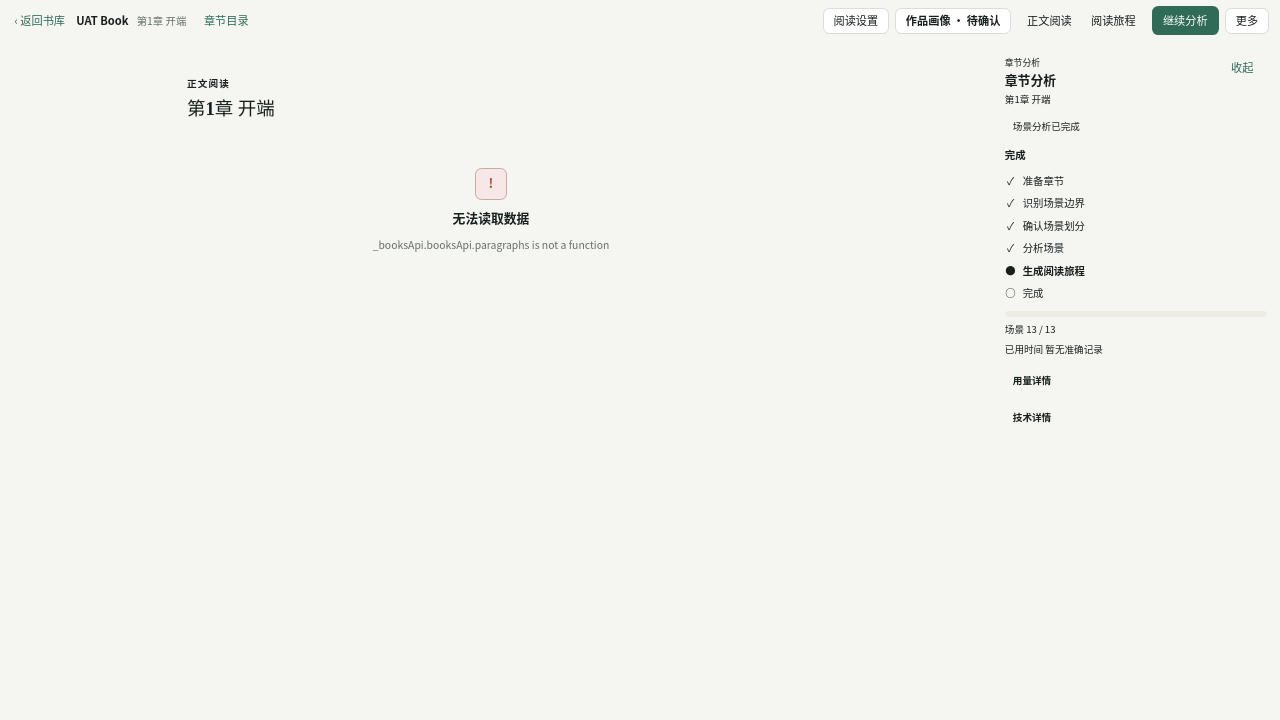
Test case: BookRoutePage reader journey resume entry › shows journey interrupted StateView for scene_profiles_partial
Click the tab with test id "workspace-tab-journey" at (1113, 21), box [1081,6,1145,35]
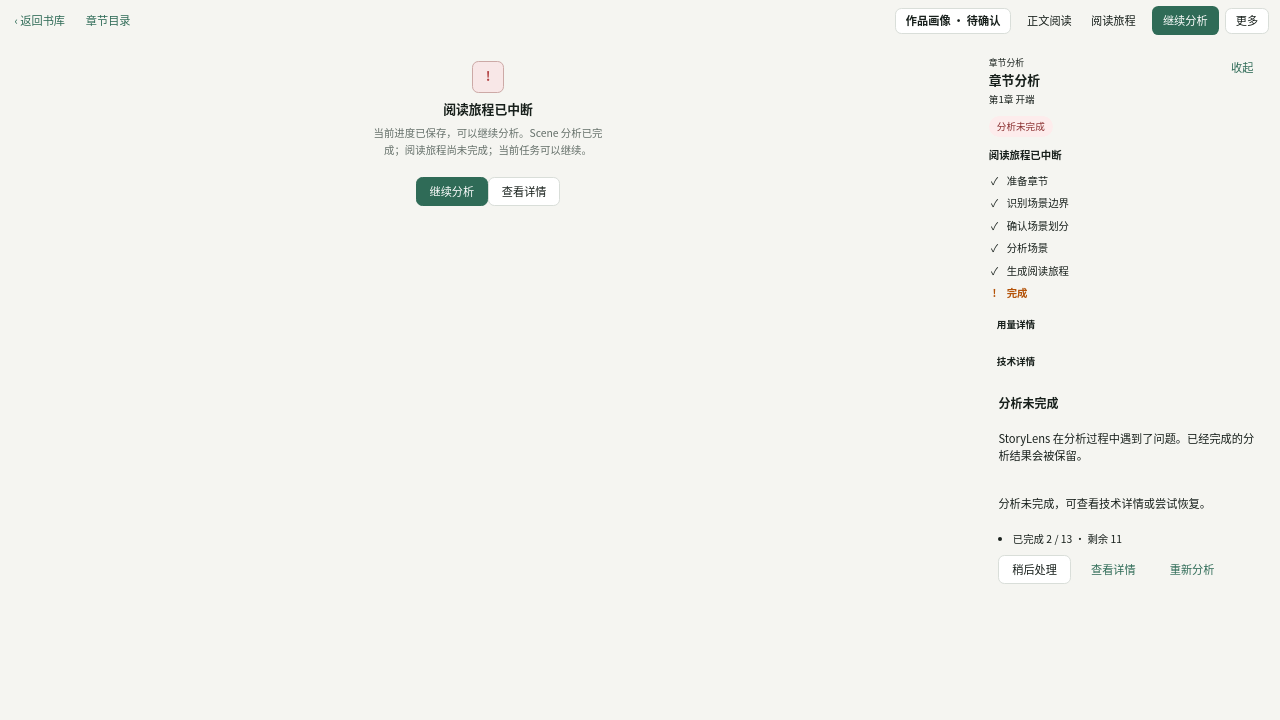
Expected: the message "! 阅读旅程已中断 当前进度已保存，可以继续分析。Scene 分析已完成；阅读旅程尚未完成；当前任务可以继续。 继续分析 查看详情" is shown, [374,61,602,206]
Expected: the button with test id "journey-interrupted-continue" reads "继续分析", [416,177,488,206]
